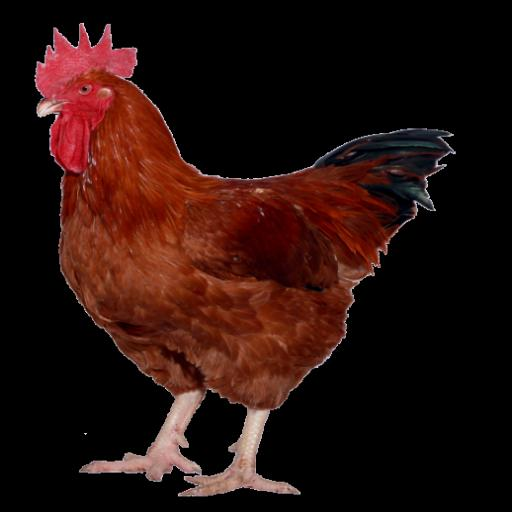healthy: (23, 18, 134, 164)
